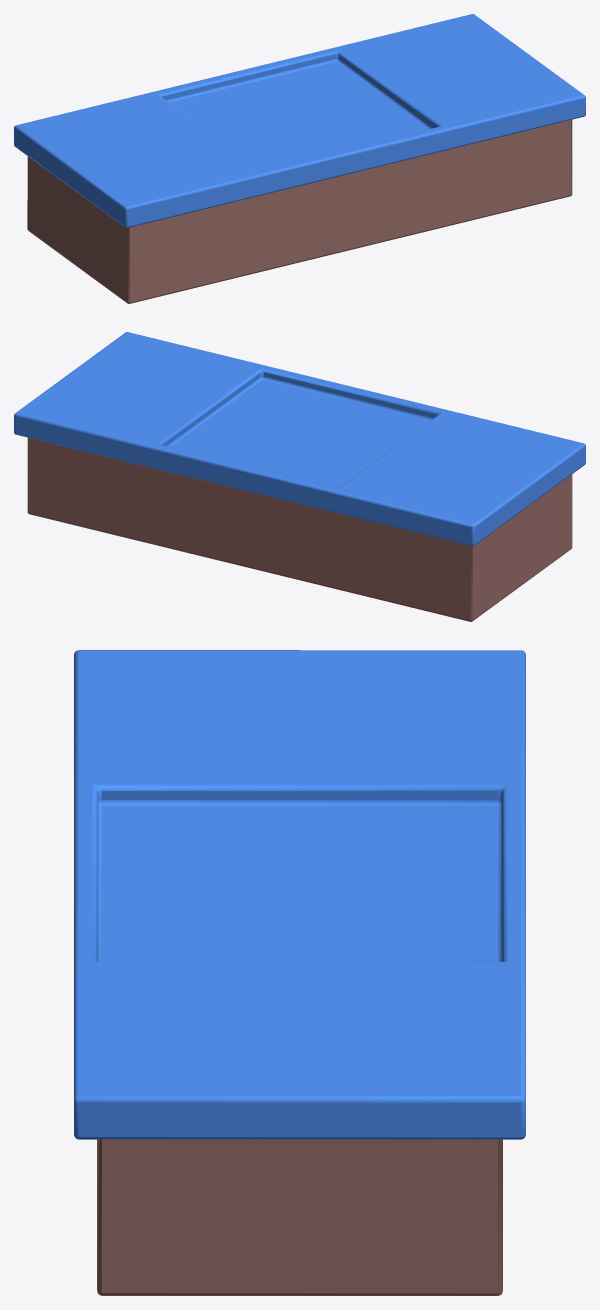
Rendered from Table.fbx.
The picture shows the model from 3 angles, top to bottom: view 1: azimuth 30°, elevation 25°; view 2: azimuth 150°, elevation 25°; view 3: azimuth 270°, elevation 25°; orthographic projection. The views are drawn at different scales.
Visible parts, largest first — view 1: Table; view 2: Table; view 3: Table.
Part boxes in pixels (bbox=[...]): Table: bbox=[14, 14, 585, 303]; Table: bbox=[14, 332, 585, 621]; Table: bbox=[74, 650, 525, 1295].
Size of the model in its own units: 400 by 85.79 by 170.
